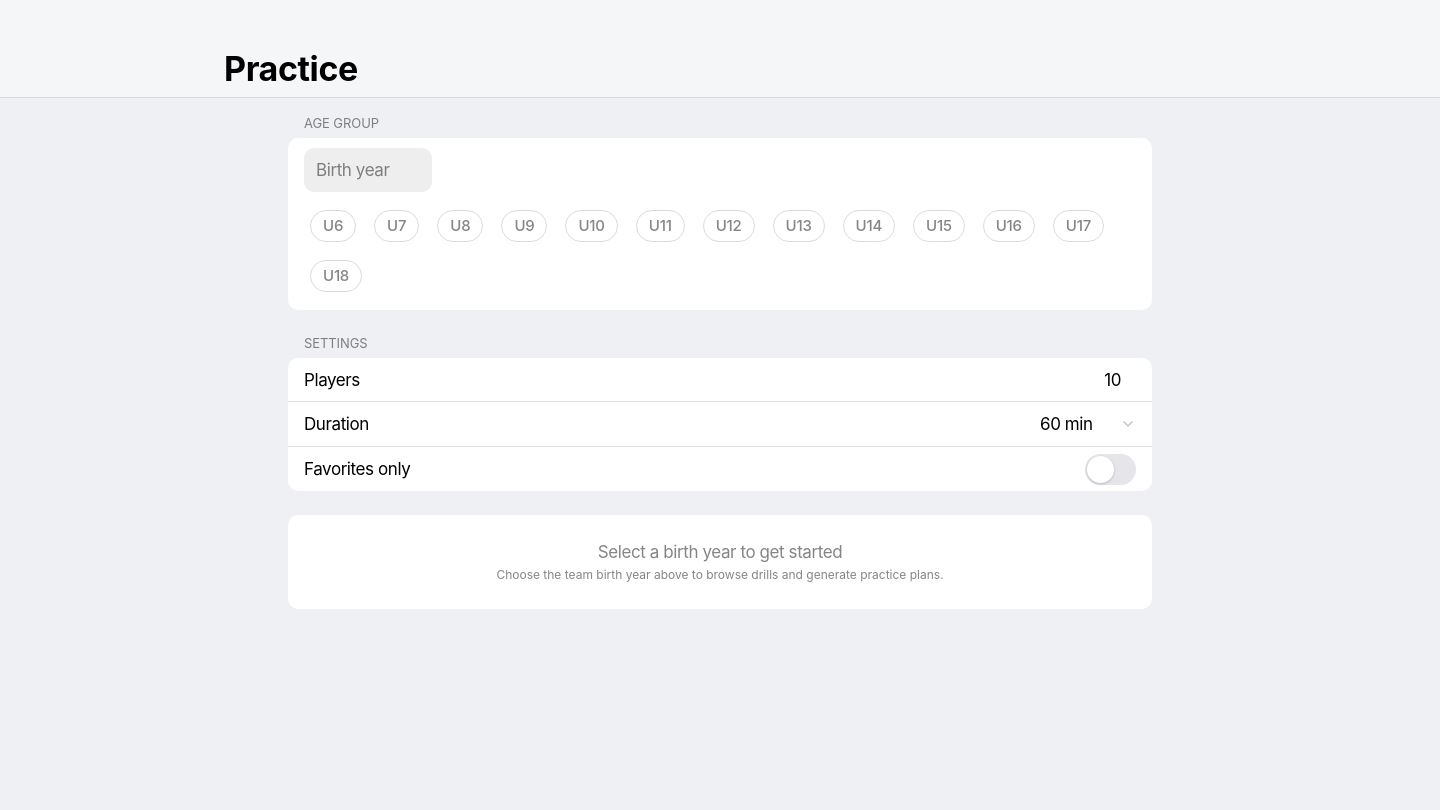
Scenario: Practice page › shows all categories including tactical for U12+
The width and height of the screenshot is (1440, 810).
Click the button "U12" at (729, 226), box [697, 204, 761, 248]
(page scrolled)
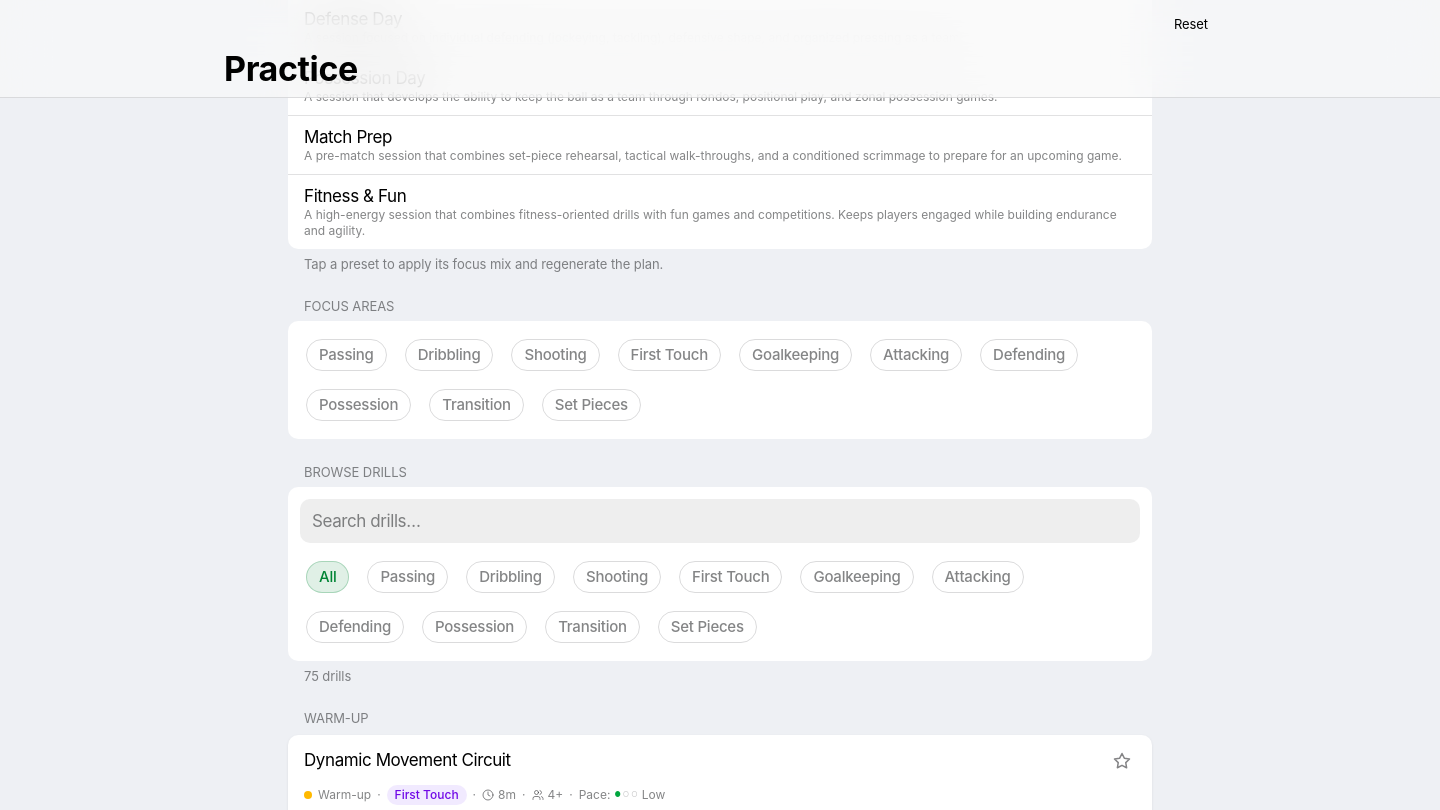
Check: the button "Passing" below "Focus Areas" is shown, box [300, 333, 393, 377]
Check: the button "Dribbling" below "Focus Areas" is shown, box [399, 333, 500, 377]
Check: the 1st button "Attacking" is shown, box [864, 333, 968, 377]
